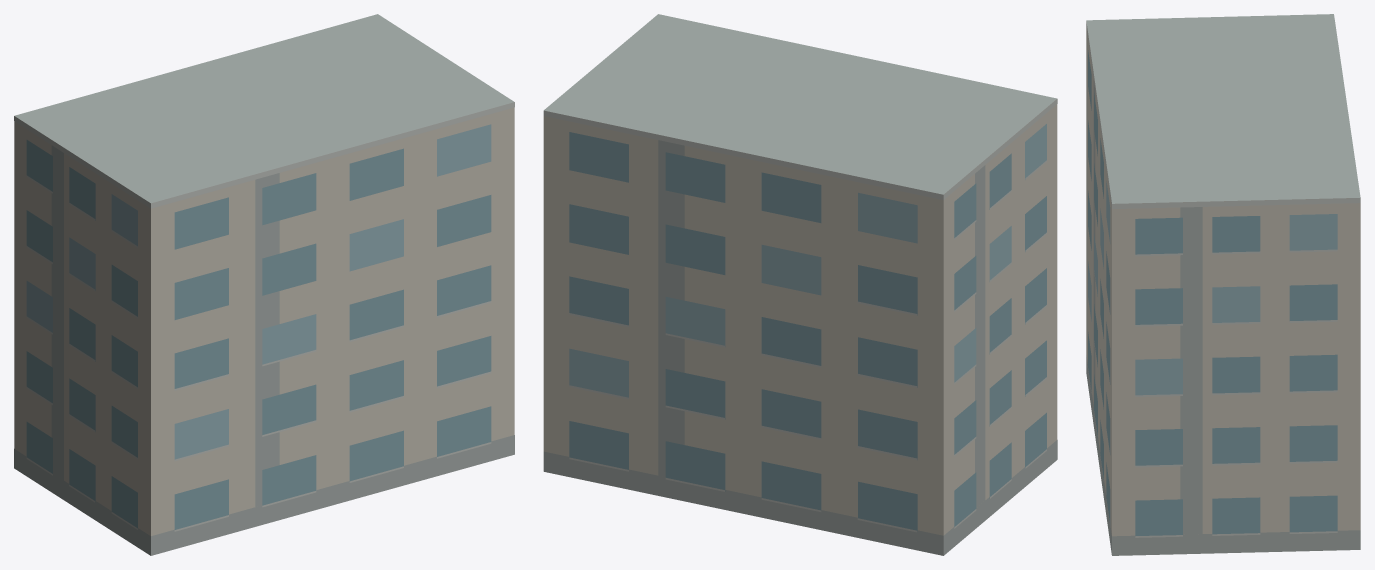
File: survey-upis-32727678.glb
3 renders of one model, left to right at view 1: azimuth 30°, elevation 25°; view 2: azimuth 150°, elevation 25°; view 3: azimuth 270°, elevation 25°, orthographic. The views are drawn at different scales.
Visible parts, largest first — view 1: survey-upis-32727678.tmp; view 2: survey-upis-32727678.tmp; view 3: survey-upis-32727678.tmp.
Part boxes in pixels (left/top/right/bottom): survey-upis-32727678.tmp: left=14, top=14, right=514, bottom=555; survey-upis-32727678.tmp: left=543, top=14, right=1057, bottom=555; survey-upis-32727678.tmp: left=1086, top=14, right=1360, bottom=555.
Bounding box in the file's own units: 18.75 × 16.2 × 11.45.
